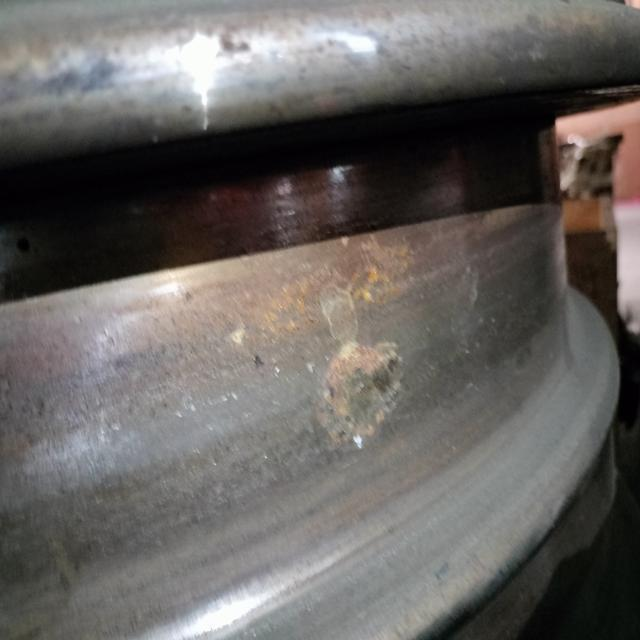Peeling: (295, 314, 427, 487)
